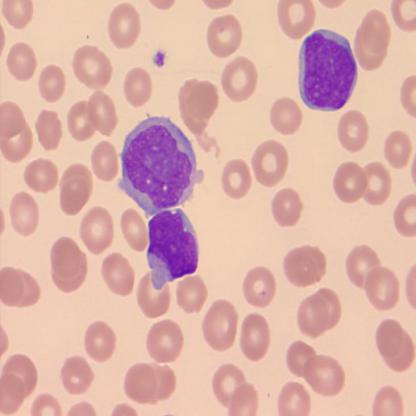Blast: (116, 111, 206, 218), (296, 24, 359, 118), (145, 206, 201, 292)
